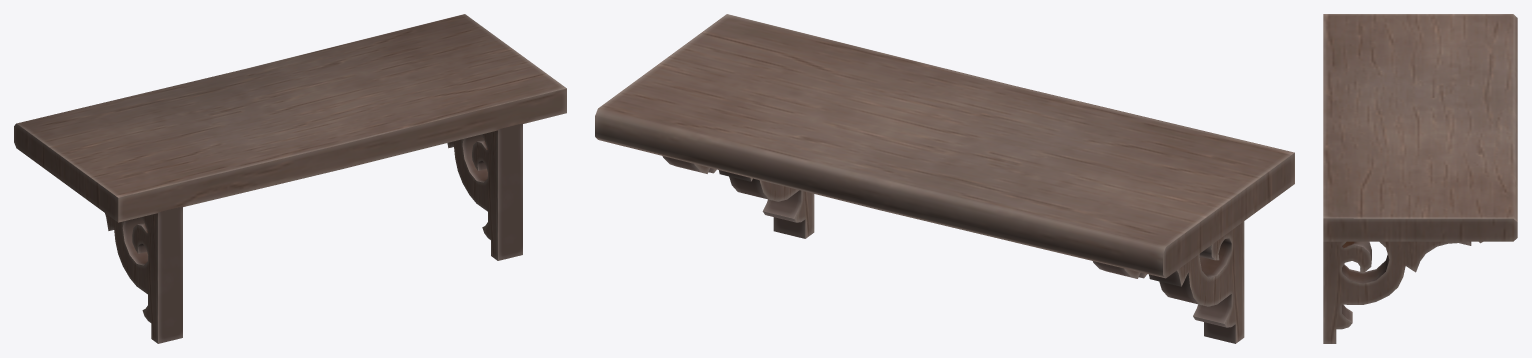
3 renders of one model, left to right at view 1: azimuth 30°, elevation 25°; view 2: azimuth 150°, elevation 25°; view 3: azimuth 270°, elevation 25°, orthographic. The views are drawn at different scales.
Visible parts, largest first — view 1: submesh_0; view 2: submesh_0; view 3: submesh_0.
Part boxes in pixels (x1=…): submesh_0: x1=14, y1=14, x2=566, y2=343; submesh_0: x1=595, y1=14, x2=1294, y2=343; submesh_0: x1=1323, y1=14, x2=1517, y2=343.
Size of the model in its own units: 1.24 by 0.4111 by 0.498.
1 material, 1 textured.
